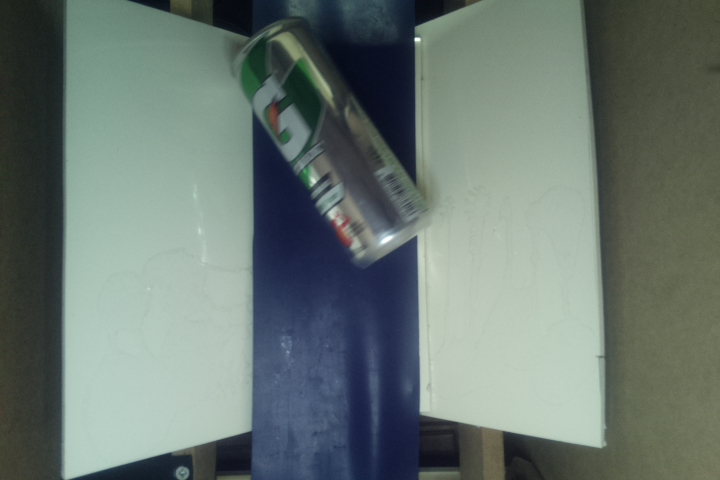can: (231, 16, 434, 265)
